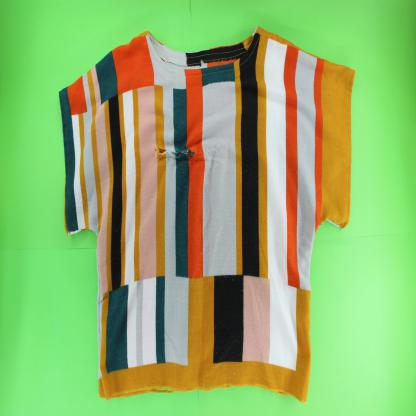hole: (152, 145, 201, 165)
